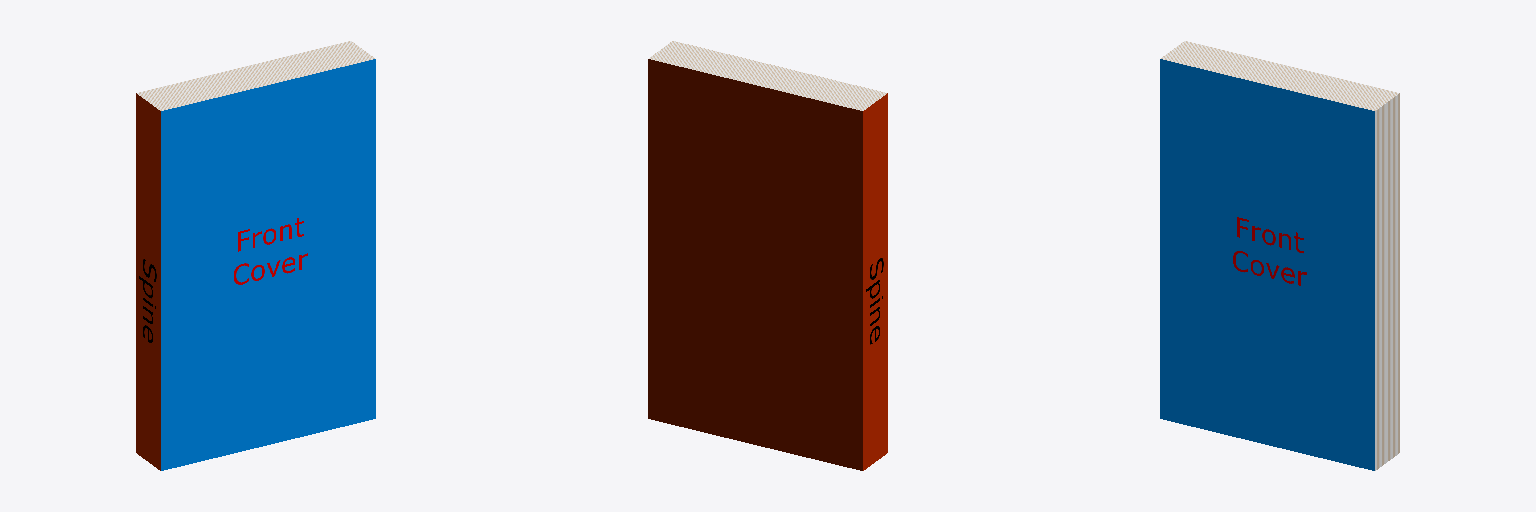
The picture shows the model from 3 angles: view 1: azimuth 30°, elevation 25°; view 2: azimuth 150°, elevation 25°; view 3: azimuth 330°, elevation 25°; orthographic projection.
Visible parts, largest first — view 1: Book_Cube; view 2: Book_Cube; view 3: Book_Cube.
Boxes of the visible parts, x1=… form: Book_Cube: x1=136, y1=41, x2=375, y2=470; Book_Cube: x1=648, y1=41, x2=887, y2=470; Book_Cube: x1=1160, y1=41, x2=1399, y2=470.
Bounding box in the file's own units: 0.175 × 0.28 × 0.035.
1 materials, 1 textured.